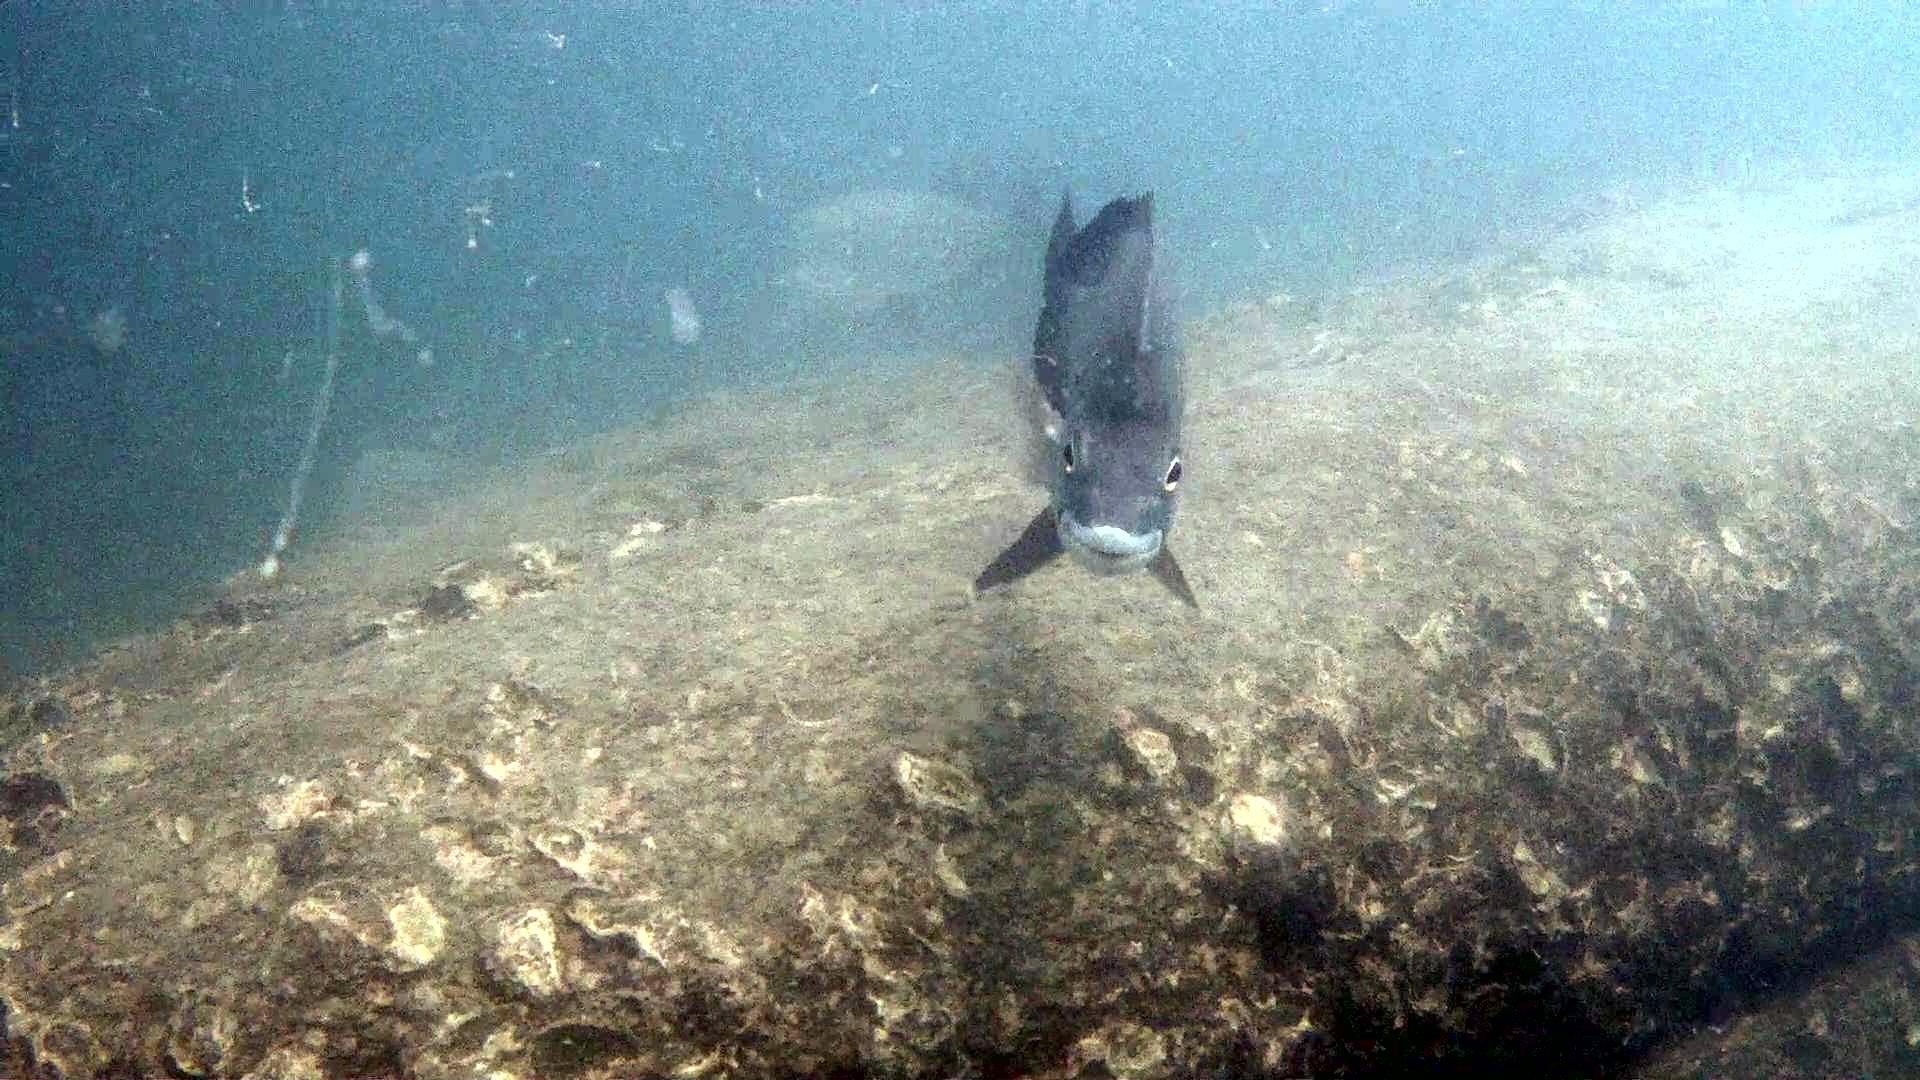acanthopagrus palmaris: (953, 173, 1230, 621)
